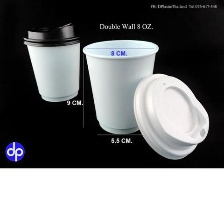paper_cup: (79, 36, 162, 138), (19, 14, 85, 105)
